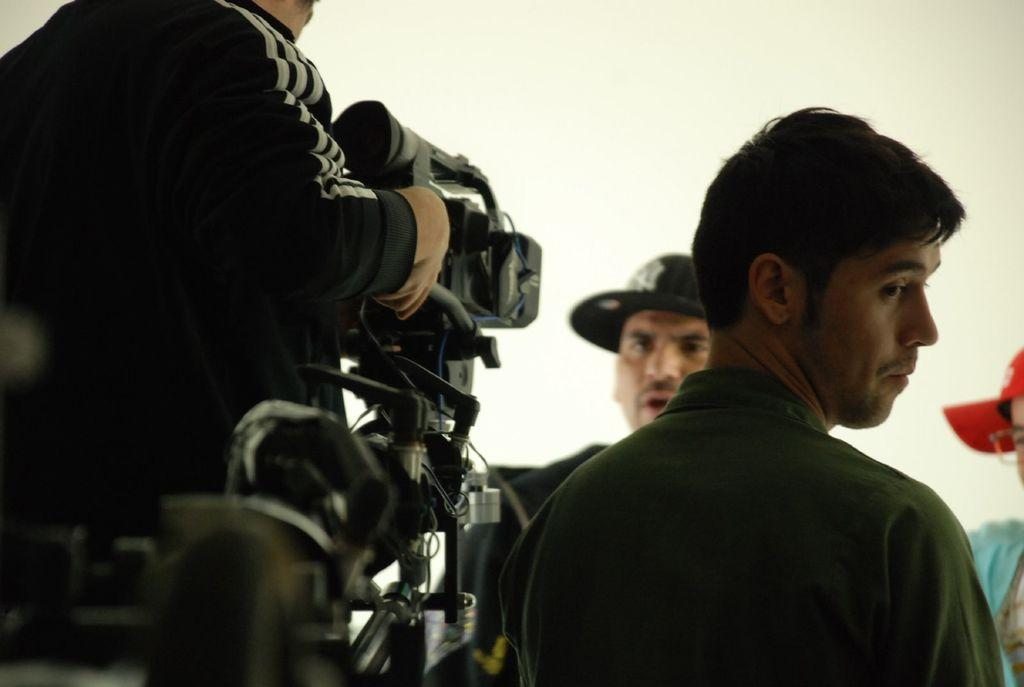Hat: (568, 254, 713, 352), (942, 344, 1022, 454)
